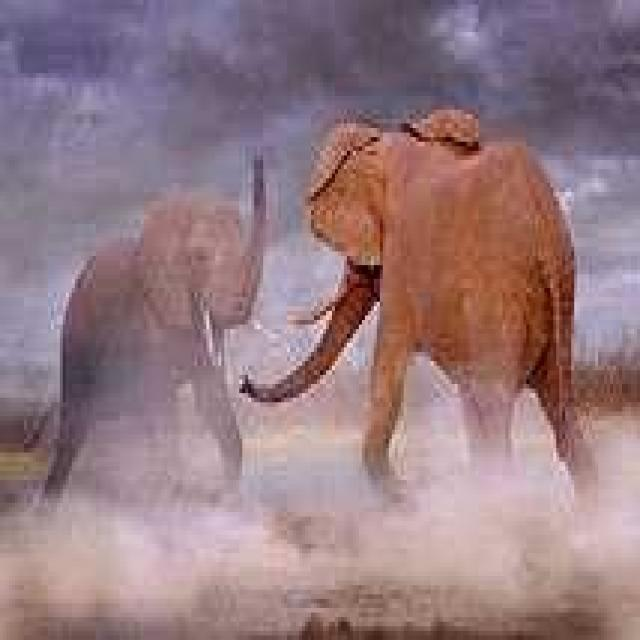Elephant: (236, 105, 598, 503), (24, 146, 269, 512)
